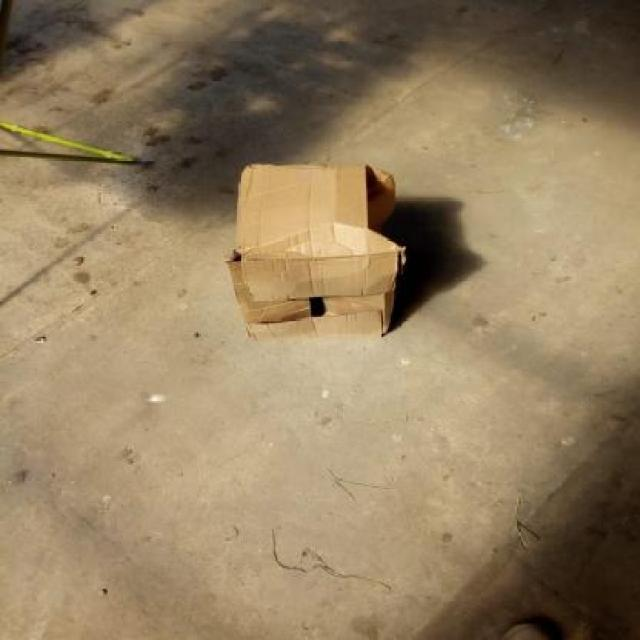box: (228, 156, 407, 342)
